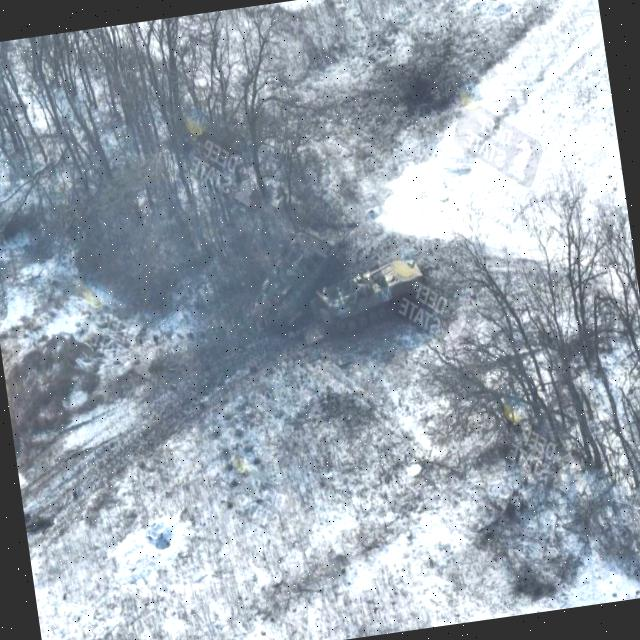AIFV: (242, 224, 347, 329), (310, 257, 432, 346)
